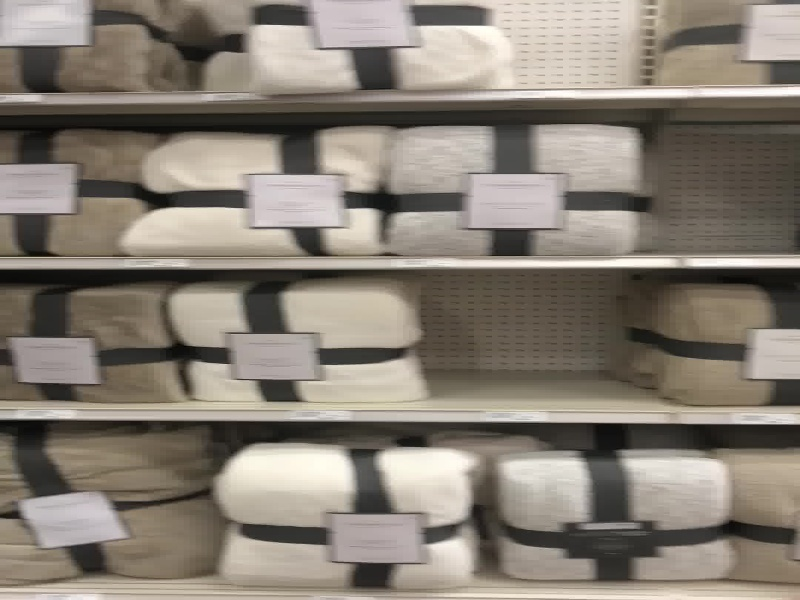empty_shelf_space: (429, 265, 630, 414), (653, 95, 800, 255), (514, 1, 664, 90)
